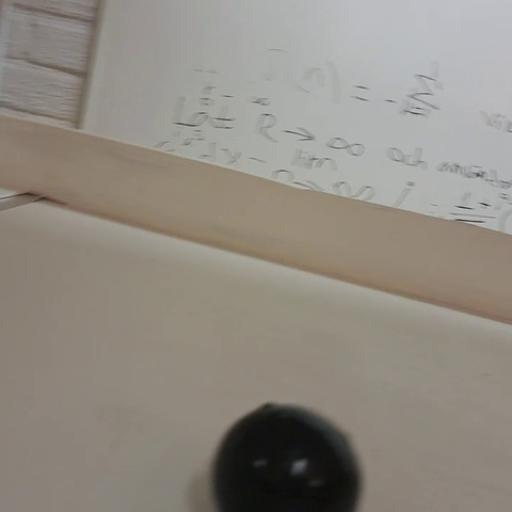dead: (210, 401, 362, 511)
